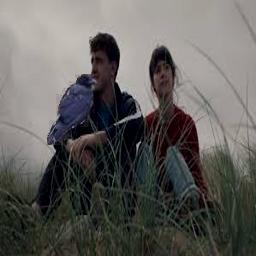Crow: (47, 74, 97, 145)
